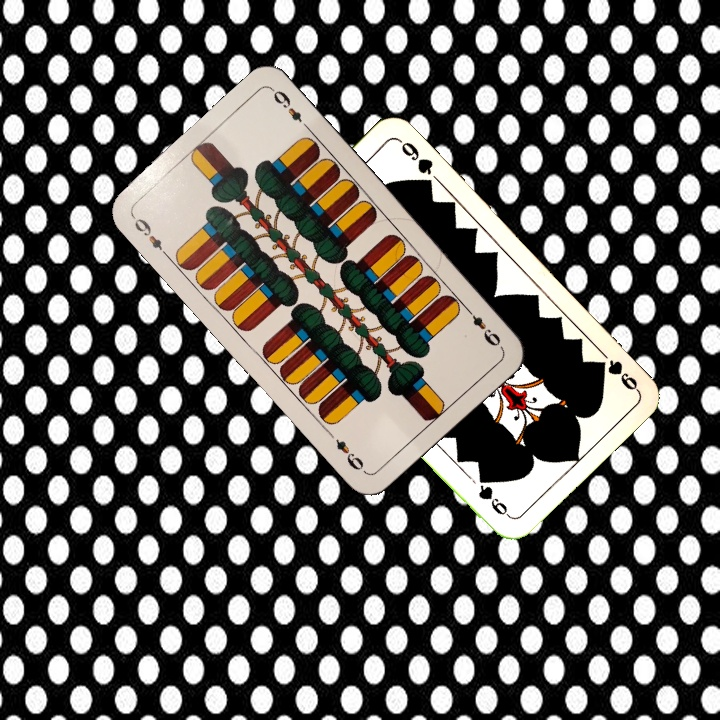E9: (128, 211, 171, 260), (460, 302, 504, 349)
G9: (595, 355, 640, 393)
